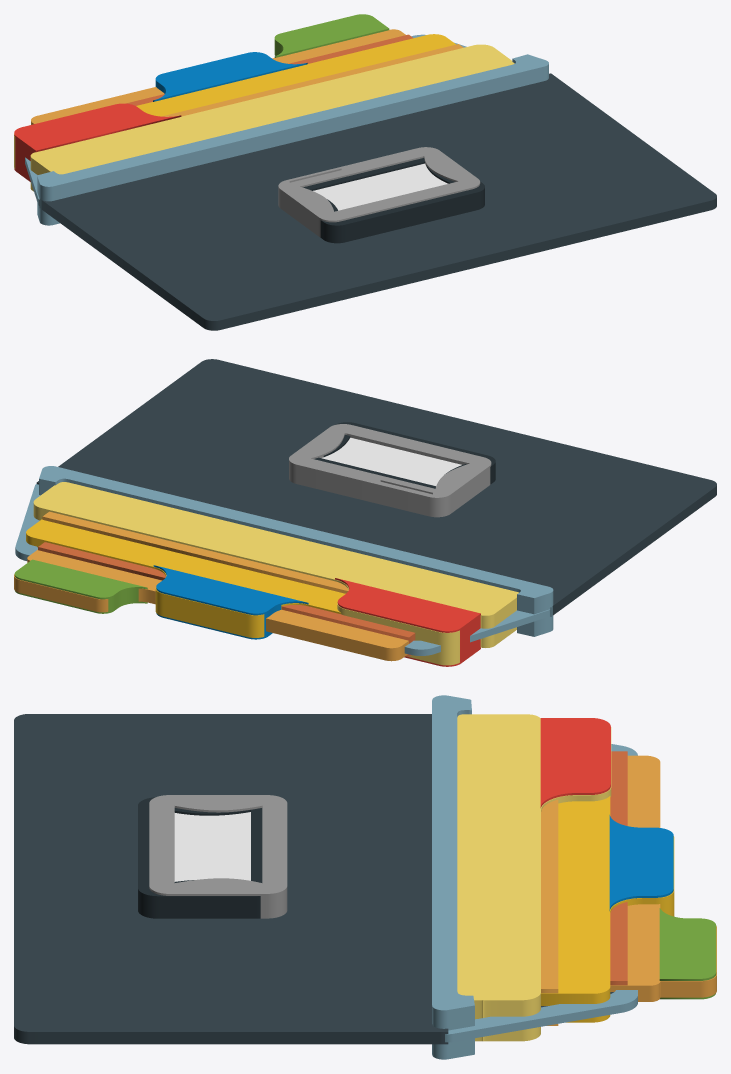
The model's file is emoji_u1f5c3.glb.
3 views of the same model, one above another, from view 1: azimuth 30°, elevation 25°; view 2: azimuth 150°, elevation 25°; view 3: azimuth 270°, elevation 25° (orthographic). The views are drawn at different scales.
Parts seen in each view (by area): view 1: emoji_u1f5c3; view 2: emoji_u1f5c3; view 3: emoji_u1f5c3.
Part boxes in pixels (x1,y1,x2,y2): emoji_u1f5c3: (14,14,716,330); emoji_u1f5c3: (14,359,716,666); emoji_u1f5c3: (14,695,716,1059).
Size of the model in its own units: 0.0333 by 0.0032 by 0.031.
